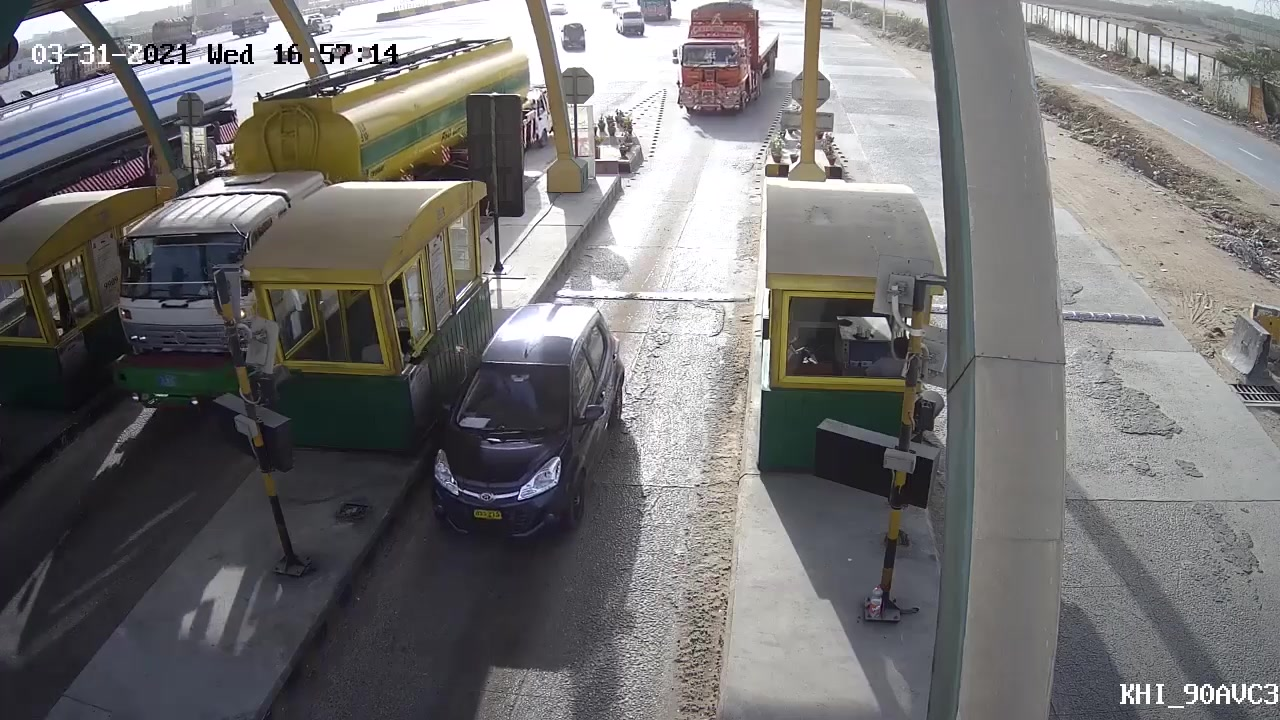F1: (422, 303, 630, 559)
F6: (674, 2, 783, 124)
